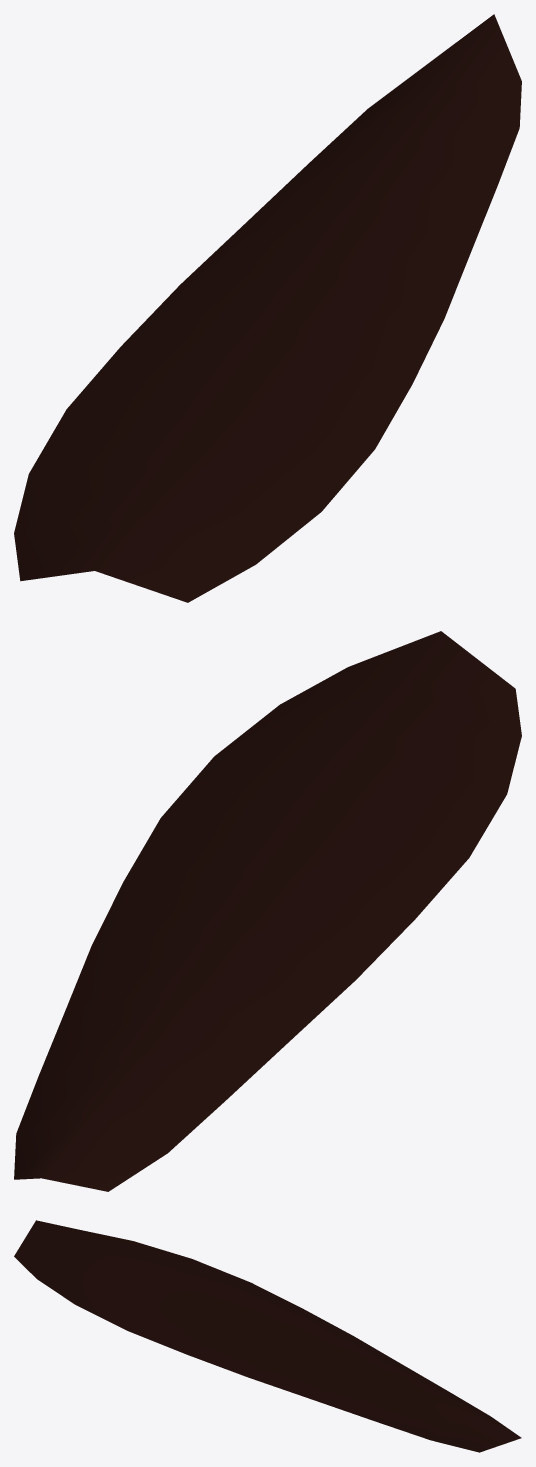
Rendered from pheasant_feather_tail_primary_001.obj.
3 views of the same model, one above another, from view 1: azimuth 30°, elevation 25°; view 2: azimuth 210°, elevation 25°; view 3: azimuth 270°, elevation 25° (orthographic). The views are drawn at different scales.
Visible parts, largest first — view 1: feather_tail_primary_001; view 2: feather_tail_primary_001; view 3: feather_tail_primary_001.
Part boxes in pixels (x1,y1,x2,y2): feather_tail_primary_001: (14, 14, 521, 602); feather_tail_primary_001: (14, 631, 521, 1191); feather_tail_primary_001: (14, 1220, 521, 1452).
Size of the model in its own units: 0.1086 by 0.00449 by 0.1021.
